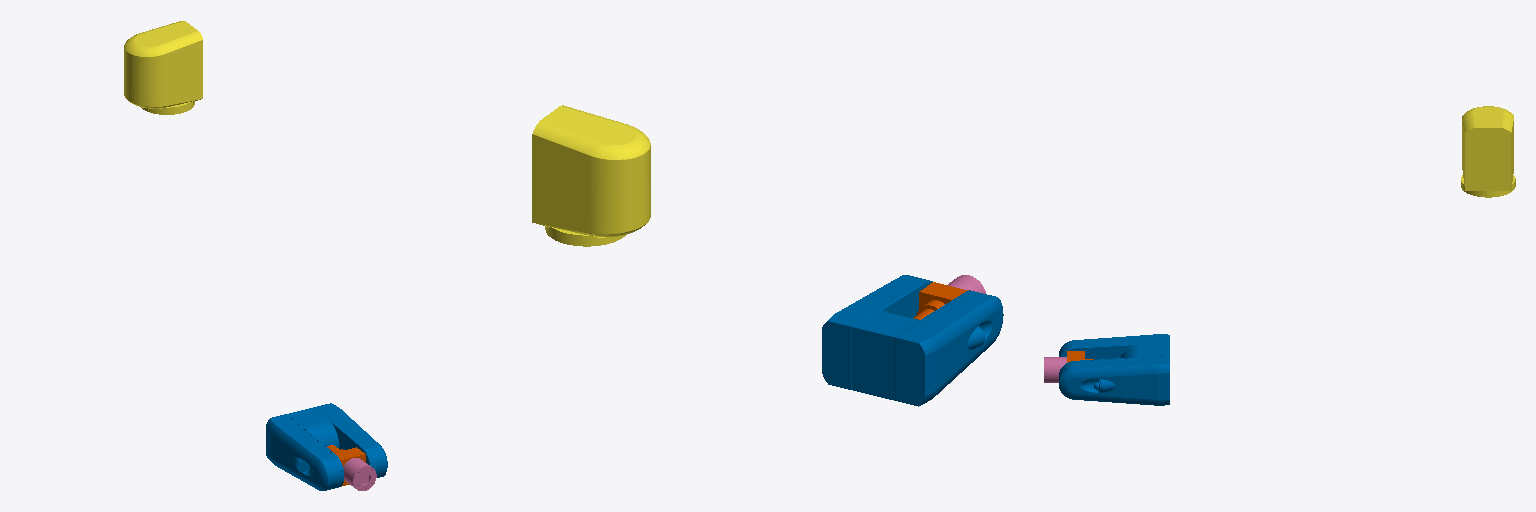
The robot description file, URDF, robot "KR3CR":
<?xml version="1.0"?>
<robot name="KR3CR"
       xmlns:xi="http://www.w3.org/2001/XInclude"
       xmlns:gazebo="http://playerstage.sourceforge.net/gazebo/xmlschema/#gz"
       xmlns:model="http://playerstage.sourceforge.net/gazebo/xmlschema/#model"
       xmlns:sensor="http://playerstage.sourceforge.net/gazebo/xmlschema/#sensor"
       xmlns:body="http://playerstage.sourceforge.net/gazebo/xmlschema/#body"
       xmlns:geom="http://playerstage.sourceforge.net/gazebo/xmlschema/#geom"
       xmlns:joint="http://playerstage.sourceforge.net/gazebo/xmlschema/#joint"
       xmlns:interface="http://playerstage.sourceforge.net/gazebo/xmlschema/#interface"
       xmlns:rendering="http://playerstage.sourceforge.net/gazebo/xmlschema/#rendering"
       xmlns:renderable="http://playerstage.sourceforge.net/gazebo/xmlschema/#renderable"
       xmlns:controller="http://playerstage.sourceforge.net/gazebo/xmlschema/#controller"
       xmlns:physics="http://playerstage.sourceforge.net/gazebo/xmlschema/#physics">

  <link name="link1">
    <visual>
      <origin xyz="0 0 0" rpy="0 -0 0"/>
      <geometry>
        <mesh filename="package://urdf_collection/meshes/kr3cr/link_1.obj" scale="1 1 1" />
      </geometry>
    </visual>
    <collision>
      <origin xyz="0 0 0" rpy="0 0 0"/>
      <geometry>
        <mesh filename="package://urdf_collection/meshes/kr3cr/link_1.obj" scale="1 1 1" />
      </geometry>
    </collision>
    <inertial>
      <mass value="1" />
      <origin xyz="0 0 0" rpy="0 -0 0"/>
      <inertia ixx="0.4" ixy="0" ixz="0" iyy="0.4" iyz="0" izz="0.4"/>
    </inertial>
  </link>

  <link name="link2">
    <visual>
      <origin xyz="0 0 0" rpy="3.14159 0 0"/>
      <geometry>
        <mesh filename="package://urdf_collection/meshes/kr3cr/link_2.obj" scale="1 1 1" />
      </geometry>
    </visual>
    <collision>
      <origin xyz="0 0 0" rpy="3.14159 0 0"/>
      <geometry>
        <mesh filename="package://urdf_collection/meshes/kr3cr/link_2.obj" scale="1 1 1" />
      </geometry>
    </collision>
    <inertial>
      <mass value="1" />
      <origin xyz="0 0 0" rpy="0 0 0"/>
      <inertia ixx="0.4" ixy="0" ixz="0" iyy="0.4" iyz="0" izz="0.4"/>
    </inertial>
  </link>

  <link name="link3">
    <visual>
      <origin xyz="0.1 0 -0.35" rpy="1.5708 -0 0"/>
      <geometry>
        <mesh filename="package://urdf_collection/meshes/kr3cr/link_3.obj" scale="1 1 1" />
      </geometry>
    </visual>
    <collision>
      <origin xyz="0.1 0 -0.35" rpy="1.5708 -0 0"/>
      <geometry>
        <mesh filename="package://urdf_collection/meshes/kr3cr/link_3.obj" scale="1 1 1" />
      </geometry>
    </collision>
    <inertial>
      <mass value="1" />
      <origin xyz="0 0 0" rpy="0 -0 0"/>
      <inertia ixx="0.4" ixy="0" ixz="0" iyy="0.4" iyz="0" izz="0.4"/>
    </inertial>
  </link>

<!-- BAD POSITIONED LINKS START FROM HERE -->
  <link name="link4">
    <visual>
      <origin xyz="0 -0.265 0" rpy="0 -0 0"/>
      <geometry>
        <mesh filename="package://urdf_collection/meshes/kr3cr/link_4_new.obj" scale="1 1 1" />
      </geometry>
    </visual>
    <collision>
      <origin xyz="0 -0.265 0" rpy="0 -0 0"/>
      <geometry>
        <mesh filename="package://urdf_collection/meshes/kr3cr/link_4_new.obj" scale="1 1 1" />
      </geometry>
    </collision>
    <inertial>
      <mass value="1" />
      <origin xyz="0 0 0" rpy="0 -0 0"/>
      <inertia ixx="0.4" ixy="0" ixz="0" iyy="0.4" iyz="0" izz="0.4"/>
    </inertial>
  </link>

  <link name="link5">
    <visual>
      <origin xyz="0 0 0" rpy="1.5708 0 -1.5708"/>
      <geometry>
        <mesh filename="package://urdf_collection/meshes/kr3cr/link_5.obj" scale="1 1 1" />
      </geometry>
    </visual>
    <collision>
      <origin xyz="0 0 0" rpy="1.5708 0 -1.5708"/>
      <geometry>
        <mesh filename="package://urdf_collection/meshes/kr3cr/link_5.obj" scale="1 1 1" />
      </geometry>
    </collision>
    <inertial>
      <mass value="1" />
      <origin xyz="0 0 0" rpy="0 -0 0"/>
      <inertia ixx="0.4" ixy="0" ixz="0" iyy="0.4" iyz="0" izz="0.4"/>
    </inertial>
  </link>

<!-- LINK5 AND LINK6 ARE POSITION CORRECTLY (RELATIVE TO EACH OTHER) BUT NOT TO THE REST OF THE ROBOT -->
  <link name="link6">
    <visual>
      <origin xyz="0 0 -0.27" rpy="-1.83705 1.5708 -0.266252"/>
      <geometry>
        <mesh filename="package://urdf_collection/meshes/kr3cr/link_6.obj" scale="1 1 1" />
      </geometry>
    </visual>
    <collision>
      <origin xyz="0 0 -0.27" rpy="-1.83705 1.5708 -0.266252"/>
      <geometry>
        <mesh filename="package://urdf_collection/meshes/kr3cr/link_6.obj" scale="1 1 1" />
      </geometry>
    </collision>
    <inertial>
      <mass value="1" />
      <origin xyz="0 0 0" rpy="0 -0 0"/>
      <inertia ixx="0.4" ixy="0" ixz="0" iyy="0.4" iyz="0" izz="0.4"/>
    </inertial>
  </link>

  <link name="link7">
    <visual>
      <origin xyz="0 0 0" rpy="1.5708 0 -1.5708"/>
      <geometry>
        <mesh filename="package://urdf_collection/meshes/kr3cr/link_7.obj" scale="1 1 1" />
      </geometry>
    </visual>
    <collision>
      <origin xyz="0 0 0" rpy="1.5708 0 -1.5708"/>
      <geometry>
        <mesh filename="package://urdf_collection/meshes/kr3cr/link_7.obj" scale="1 1 1" />
      </geometry>
    </collision>
    <inertial>
      <mass value="1" />
      <origin xyz="0 0 0" rpy="0 -0 0"/>
      <inertia ixx="0.4" ixy="0" ixz="0" iyy="0.4" iyz="0" izz="0.4"/>
    </inertial>
  </link>


  <joint name="j1" type="revolute">
    <parent link="link1"/>
    <child  link="link2"/>
    <origin xyz="0 0 0" rpy="3.14159 -0 0 "/>
    <axis   xyz="0 0 1"/>
    <limit lower="-3.14159" upper="3.14159" effort="50" velocity="4.18879" />
    <dynamics damping="0.2" friction="0" />
  </joint>

  <joint name="j2" type="revolute">
    <parent link="link2"/>
    <child  link="link3"/>
    <origin xyz="0.1 0 -0.35" rpy="1.5708 -0 0 "/>
    <axis   xyz="0 0 1"/>
    <limit lower="-0.785398" upper="2.35619" effort="50" velocity="3.66519" />
    <dynamics damping="0.2" friction="0" />
  </joint>

  <joint name="j3" type="revolute">
    <parent link="link3"/>
    <child  link="link4"/>
    <origin xyz="0 -0.265 0" rpy="0 -0 0 "/>
    <axis   xyz="0 0 1"/>
    <limit lower="-2.35619" upper="2.35619" effort="50" velocity="4.18879" />
    <dynamics damping="0.2" friction="0" />
  </joint>

  <joint name="j4" type="revolute">
    <parent link="link4"/>
    <child  link="link5"/>
    <origin xyz="0 0 0" rpy="1.5708 0 -1.5708 "/>
    <axis   xyz="0 0 1"/>
    <limit lower="-3.14159" upper="3.14159" effort="50" velocity="6.54498" />
    <dynamics damping="0.2" friction="0" />
  </joint>

  <joint name="j5" type="revolute">
    <parent link="link5"/>
    <child  link="link6"/>
    <origin xyz="0 0 -0.27" rpy="-1.83705 1.5708 -0.266252 "/>
    <axis   xyz="0 0 1"/>
    <limit lower="-2.35619" upper="2.35619" effort="50" velocity="5.23599" />
    <dynamics damping="0.2" friction="0" />
  </joint>

  <joint name="j6" type="continuous">
    <parent link="link6"/>
    <child  link="link7"/>
    <origin xyz="0 0 0" rpy="1.5708 0 -1.5708 "/>
    <axis   xyz="0 0 1"/>
    <limit lower="-3.14159" upper="3.14159" effort="50" velocity="6.54498" />
    <dynamics damping="0.2" friction="0" />
  </joint>
</robot>

--- Facts derived from the render (not from the file) ---
The picture shows the robot from 3 angles, left to right: view 1: azimuth 30°, elevation 25°; view 2: azimuth 150°, elevation 25°; view 3: azimuth 270°, elevation 25°; orthographic projection.
Model KR3CR with 7 links and 6 joints (5 revolute, 1 continuous), rooted at link1, posed every joint at zero.
Visible links, largest first — view 1: link5, link4, link7; view 2: link5, link4, link6; view 3: link5, link4.
Link boxes in pixels (x1,y1,x2,y2): link5: (266, 403, 387, 490); link4: (124, 21, 202, 114); link7: (343, 458, 376, 490); link5: (822, 275, 1003, 406); link4: (532, 105, 650, 246); link6: (914, 282, 968, 319); link5: (1059, 334, 1169, 405); link4: (1461, 106, 1515, 197).
Bounding box of the posed robot: 251 × 1125 × 761 m (x, y, z).
Meshes: 7 distinct files referenced, 4 mesh visuals loaded (4 OBJ); not drawn: 3 (reference not matched to a file when rendering).
